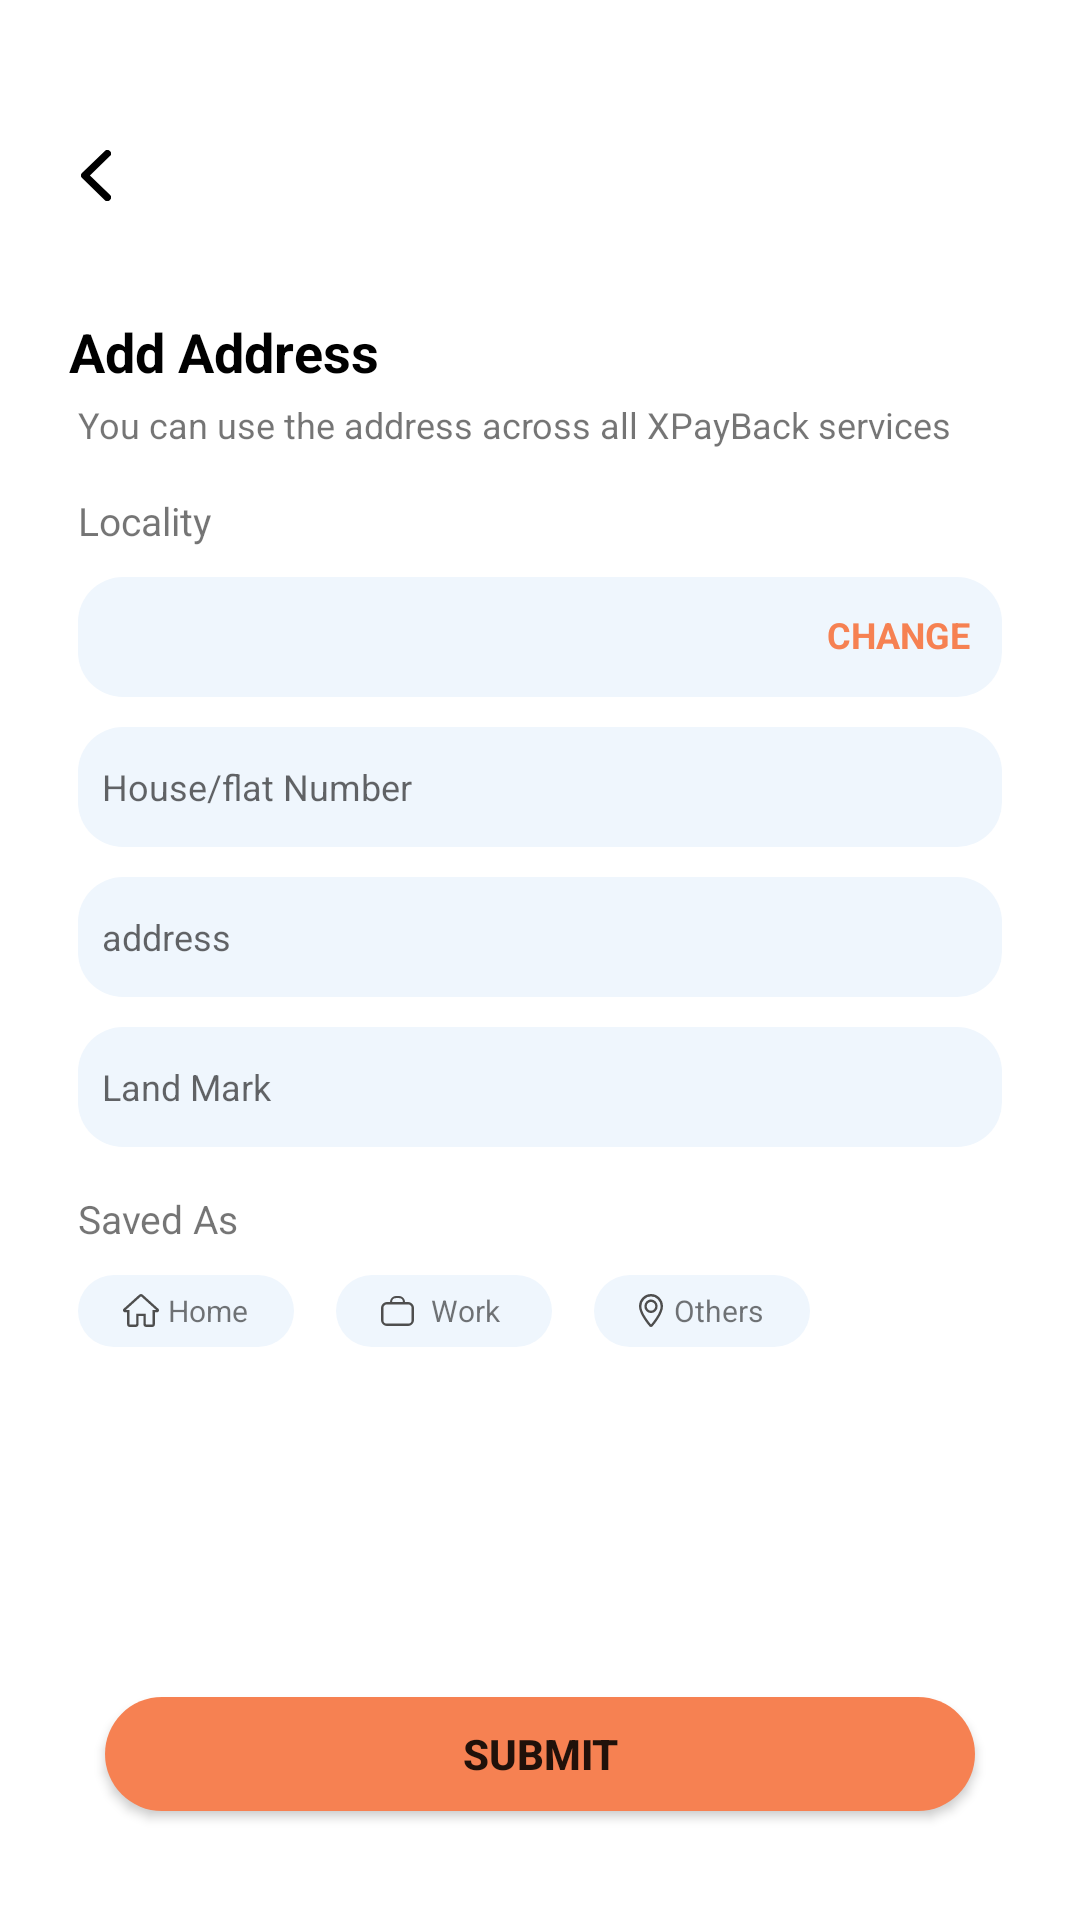

Screen size 1080px×1920px. Icon name, then its center in pixels as (x,y):
arrowleft: (96,175)
